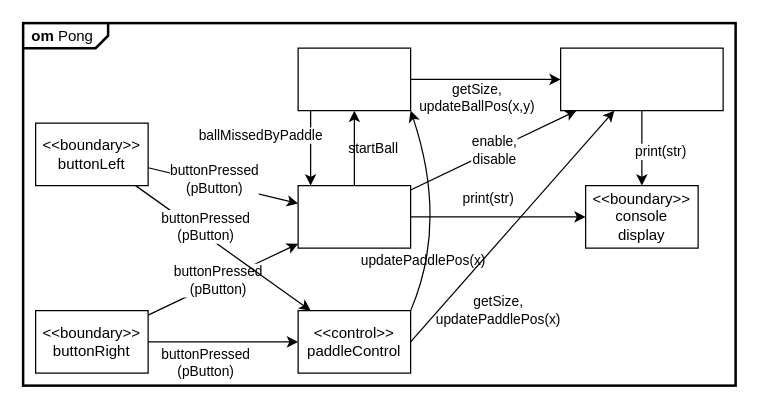
The diagram is 758 pixels wide and 408 high, and some of its shapes have lost their labels. Here are the shapes that lost their labels. From the top down, the centre of each, then its label:
At point 354,79: "<<control>> ballControl".
At point 641,79: "<<control>> SceneDisplayControl".
At point 354,216: "<<control>> gameControl".
